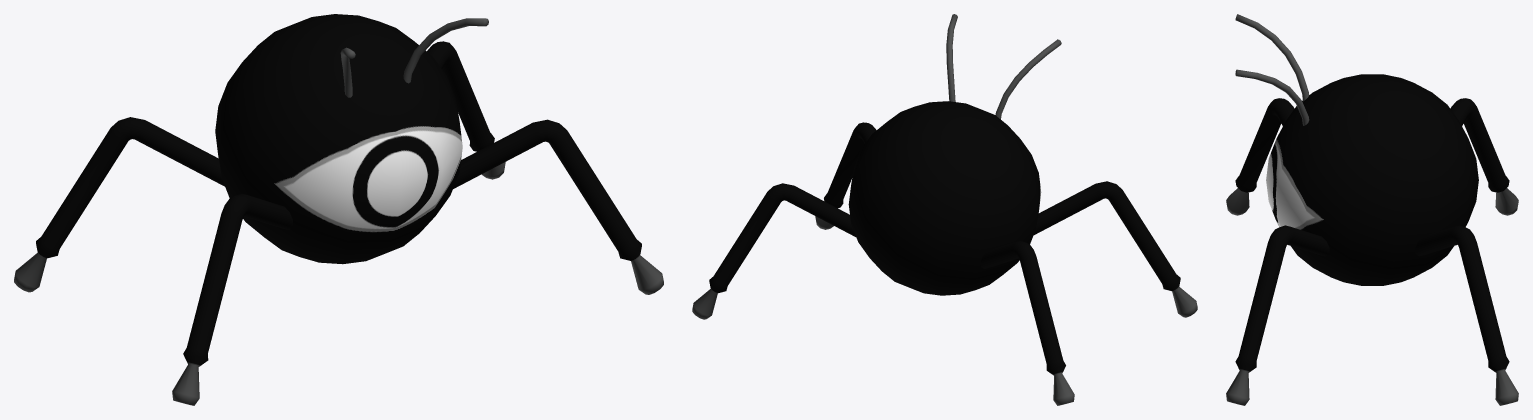
The model's file is walker.fbx.
3 renders of one model, left to right at view 1: azimuth 30°, elevation 25°; view 2: azimuth 150°, elevation 25°; view 3: azimuth 270°, elevation 25°, orthographic. The views are drawn at different scales.
Visible parts, largest first — view 1: body, left_back, right_front, left_front, right_back, Tactile_sense; view 2: body, left_front, right_back, left_back, right_front, Tactile_sense; view 3: body, right_front, right_back, left_front, left_back, Tactile_sense.
Part boxes in pixels (bbox=[...]): body: bbox=[215, 14, 462, 264]; left_back: bbox=[14, 117, 224, 292]; right_front: bbox=[453, 119, 663, 294]; left_front: bbox=[172, 193, 292, 405]; right_back: bbox=[427, 41, 505, 179]; Tactile_sense: bbox=[340, 18, 488, 97]; body: bbox=[848, 101, 1041, 295]; left_front: bbox=[1034, 181, 1197, 317]; right_back: bbox=[692, 183, 855, 319]; left_back: bbox=[980, 241, 1074, 405]; right_front: bbox=[815, 122, 876, 229]; Tactile_sense: bbox=[946, 14, 1061, 119]; body: bbox=[1266, 74, 1478, 285]; right_front: bbox=[1226, 225, 1329, 405]; right_back: bbox=[1415, 225, 1518, 405]; left_front: bbox=[1226, 98, 1294, 215]; left_back: bbox=[1450, 98, 1518, 215]; Tactile_sense: bbox=[1235, 14, 1309, 125].
Size of the model in its own units: 450 by 278 by 275.
